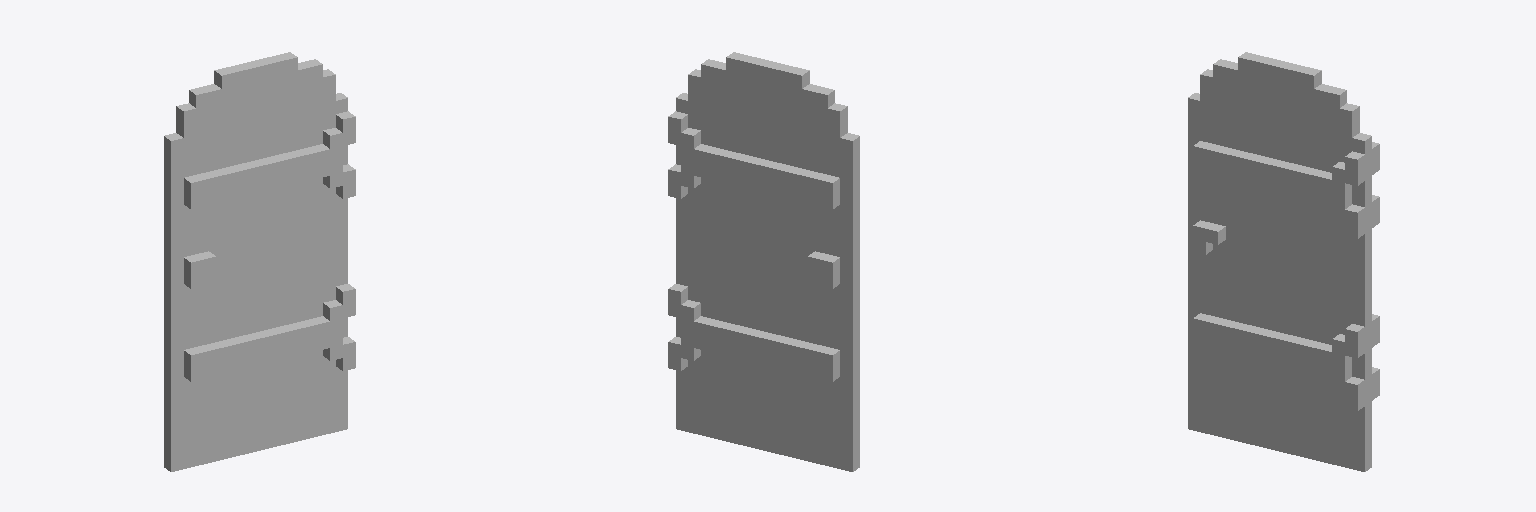
File: door.obj
The picture shows the model from 3 angles: view 1: azimuth 30°, elevation 25°; view 2: azimuth 150°, elevation 25°; view 3: azimuth 330°, elevation 25°; orthographic projection.
Visible parts, largest first — view 1: object 1; view 2: object 1; view 3: object 1.
Part boxes in pixels (x1,y1,x2,y2): object 1: (164, 52, 355, 471); object 1: (668, 52, 859, 471); object 1: (1188, 52, 1379, 471).
Bounding box in the file's own units: 1.4 × 2.9 × 0.3.